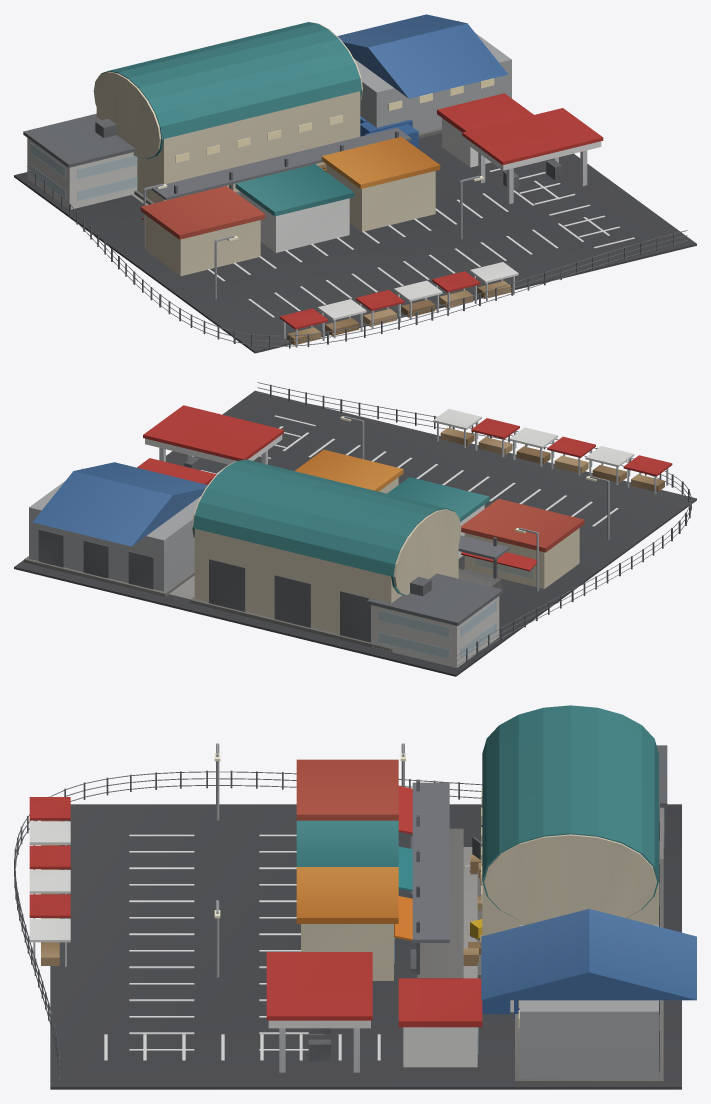
File: Market_P2.fbx
3 views of the same model, one above another, from view 1: azimuth 30°, elevation 25°; view 2: azimuth 150°, elevation 25°; view 3: azimuth 270°, elevation 25° (orthographic). The views are drawn at different scales.
Visible parts, largest first — view 1: Market.Pad, Market.WH1, Market.WH2, Market.Office, Market.Shop0, Market.Shop2, Market.Shop1, Market.Stalls, Market.Fuel, Market.Fence, Market.Dock, Market.FuelShop (+2 smaller); view 2: Market.WH1, Market.Pad, Market.WH2, Market.Office, Market.Shop0, Market.Stalls, Market.Fuel, Market.Fence, Market.Shop2, Market.Shop1, Market.Dock, Market.Bays (+1 smaller); view 3: Market.Pad, Market.WH1, Market.WH2, Market.Shop2, Market.Dock, Market.Fuel, Market.FuelShop, Market.Shop0, Market.Stalls, Market.Shop1, Market.Bays, Market.Fence (+2 smaller).
Boxes of the visible parts, x1,y1,x2,y2 form: Market.Pad: (14,133,696,353); Market.WH1: (93,22,362,204); Market.WH2: (337,14,511,138); Market.Office: (23,113,137,209); Market.Shop0: (140,186,265,275); Market.Shop2: (321,136,440,231); Market.Shop1: (235,164,354,252); Market.Stalls: (279,262,518,347); Market.Fuel: (462,108,603,204); Market.Fence: (27,166,687,348); Market.Dock: (151,128,411,200); Market.FuelShop: (437,93,533,167); Market.WH1: (190,459,461,651); Market.Pad: (14,390,696,676); Market.WH2: (24,462,207,596); Market.Office: (367,573,503,667); Market.Shop0: (461,499,584,588); Market.Stalls: (433,409,672,494); Market.Fuel: (143,405,283,469); Market.Fence: (257,382,691,666); Market.Shop2: (295,449,403,493); Market.Shop1: (387,477,489,558); Market.Dock: (458,535,509,588); Market.Bays: (201,415,618,526); Market.Pad: (50,804,681,1089); Market.WH1: (477,705,663,978); Market.WH2: (481,909,696,1084); Market.Shop2: (296,867,412,980); Market.Dock: (410,779,463,978); Market.Fuel: (266,952,372,1072); Market.FuelShop: (398,978,482,1067); Market.Shop0: (296,759,412,834); Market.Stalls: (29,797,70,966); Market.Shop1: (296,820,412,891); Market.Bays: (104,834,380,1060); Market.Fence: (14,770,482,1080).
Bounding box in the file's own units: 7627 × 1751 × 7350.
